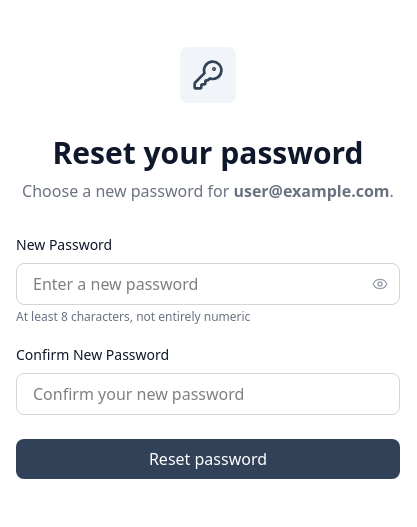
Scenario: ResetPassword › shows the server's password-strength message inline, keeping the form
This screenshot has width=417, height=527.
Type "N3w-Str0ng-Pass!" into the password field with placeholder "Enter a new password" at (208, 284), box 16,263 -> 400,305
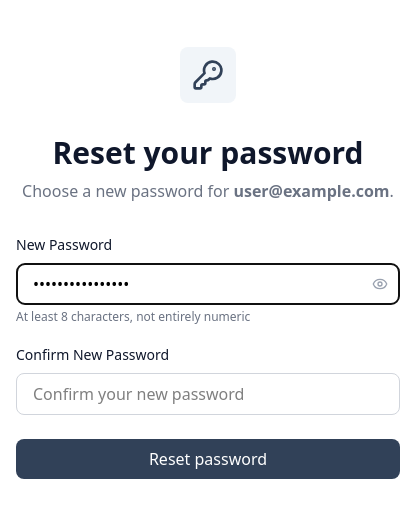
Type "N3w-Str0ng-Pass!" into the password field with placeholder "Confirm your new password" at (208, 394), box 16,373 -> 400,415
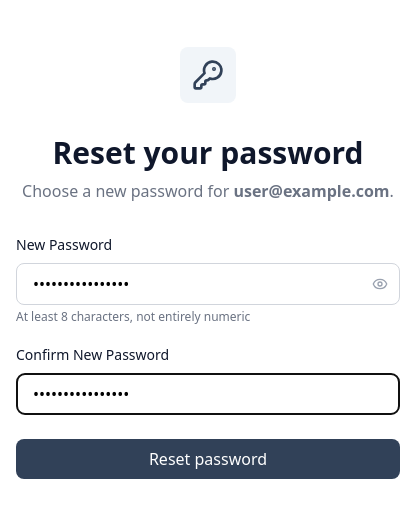
Click the button "Reset password" at (208, 459), box 16,439 -> 400,479
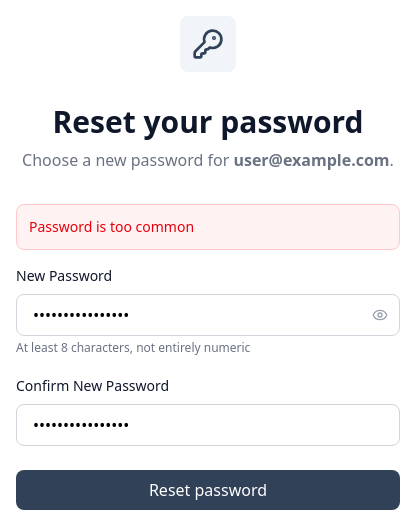
Expected: the button "Reset password" is shown, 16,470 -> 400,510
Now the text "Password is too common" is shown, box 29,217 -> 194,236
